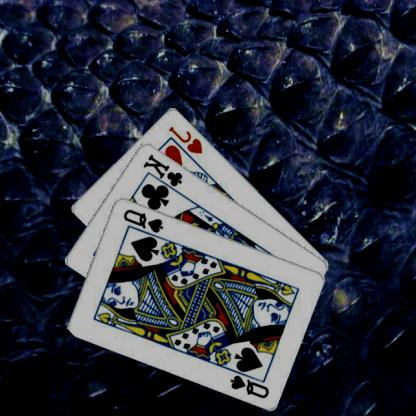JH: (168, 123, 206, 155)
KC: (142, 151, 185, 195)
QS: (122, 206, 166, 234), (229, 372, 272, 399)
